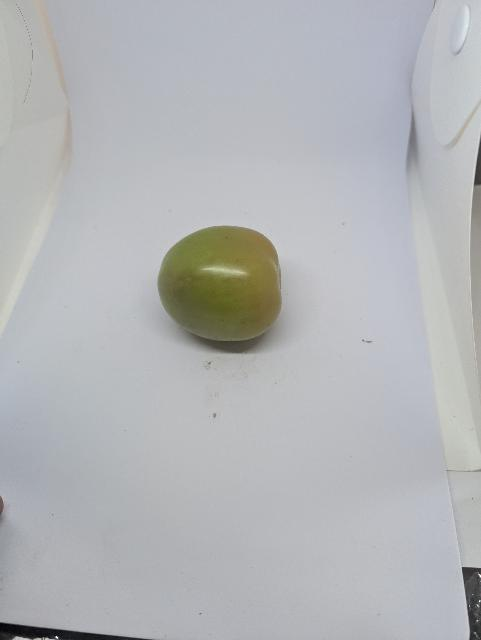green: (149, 220, 314, 355)
